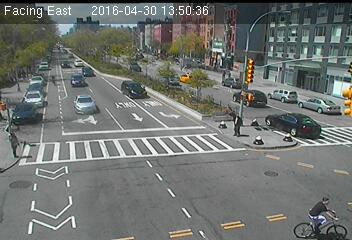neg: (301, 189, 337, 237), (58, 161, 77, 188), (75, 90, 94, 115), (162, 72, 180, 95), (335, 86, 351, 111), (276, 108, 293, 131), (251, 16, 268, 39), (327, 27, 344, 50), (289, 24, 305, 46), (151, 20, 166, 39), (218, 64, 232, 83), (288, 80, 302, 99), (265, 164, 279, 181), (81, 62, 94, 80), (36, 25, 48, 41), (134, 58, 146, 73), (221, 14, 232, 30)
pos: (1, 127, 24, 158), (228, 110, 250, 139), (45, 72, 58, 90)
